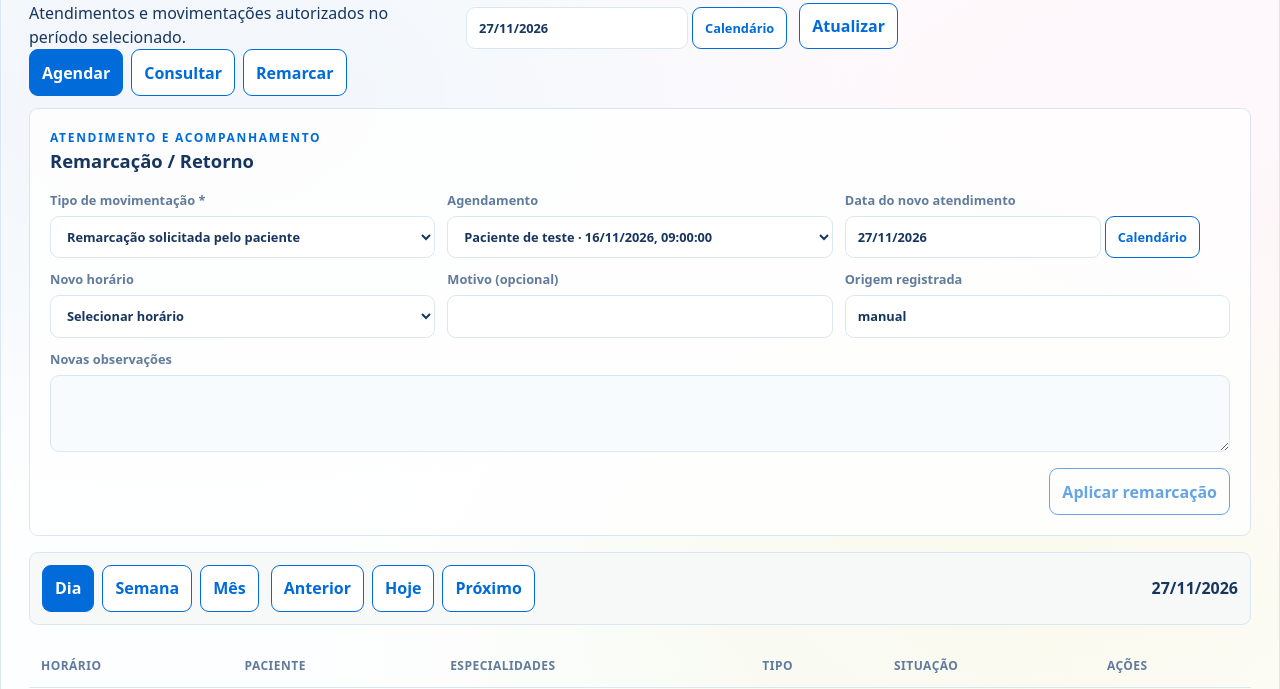
Test: mantém aviso de remarcação pendente sem local e habilita WhatsApp após recuperar endereço, sem duplicar consulta
(page scrolled)
Expected: the heading "Remarcação / Retorno" is shown, [50, 148, 254, 173]
Select "Remarcação solicitada pelo paciente" in the dropdown labelled "Tipo de movimentação *" at {"x": 243, "y": 237}, box [50, 216, 435, 258]
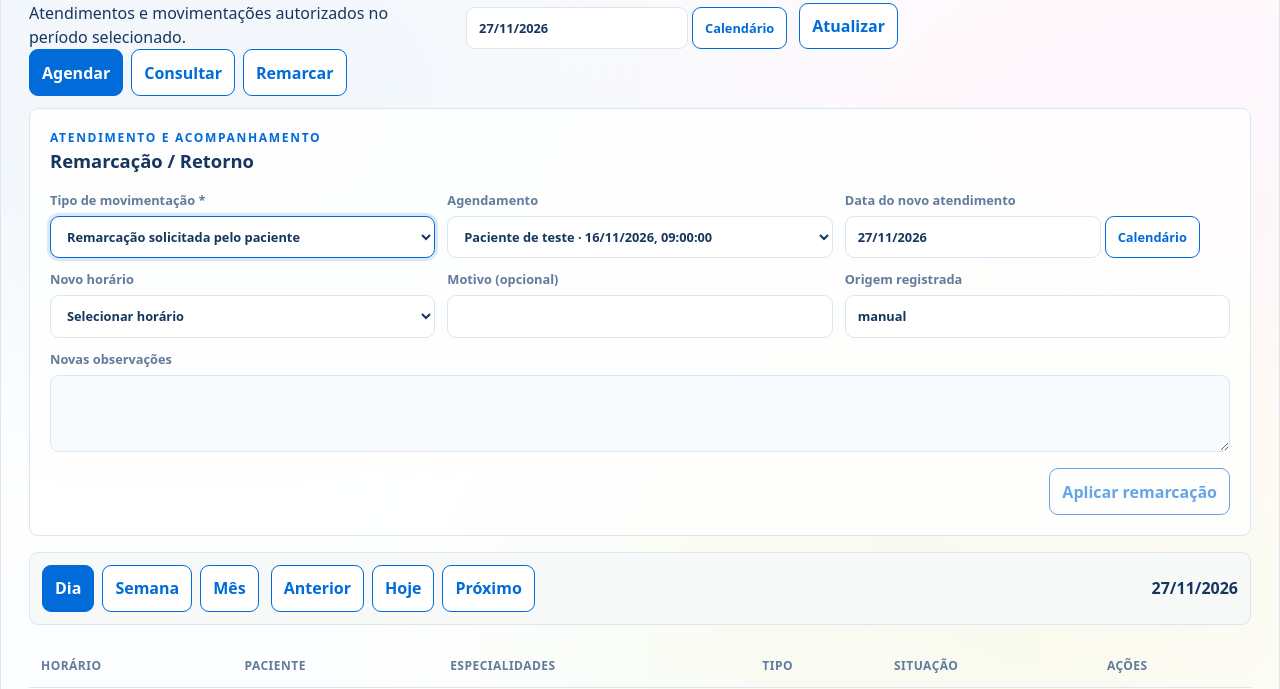
Expected: the dropdown labelled "Agendamento" shows "Paciente de teste · 16/11/2026, 09:00:00", [447, 216, 833, 258]
Replace the text in the field labelled "Data do novo atendimento" with "2026-11-17" at {"x": 973, "y": 237}, box [845, 216, 1101, 258]
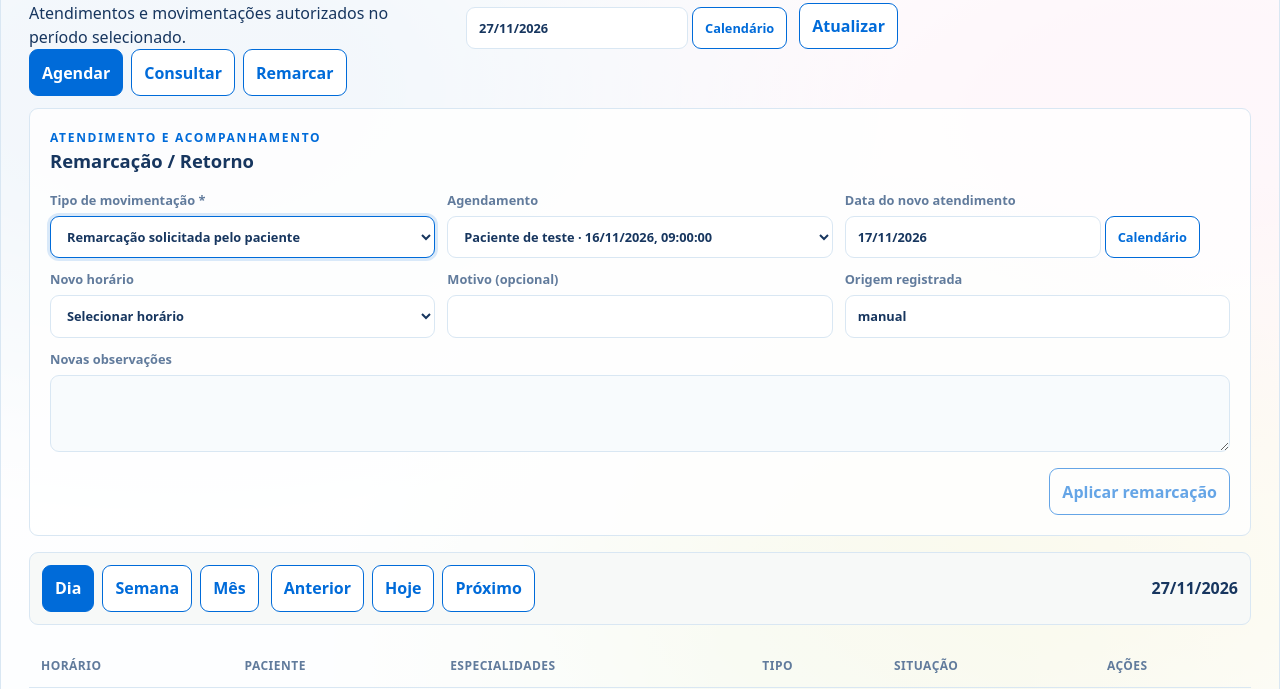
Select "09:00:00" in the dropdown labelled "Novo horário" at {"x": 243, "y": 316}, box [50, 295, 435, 338]
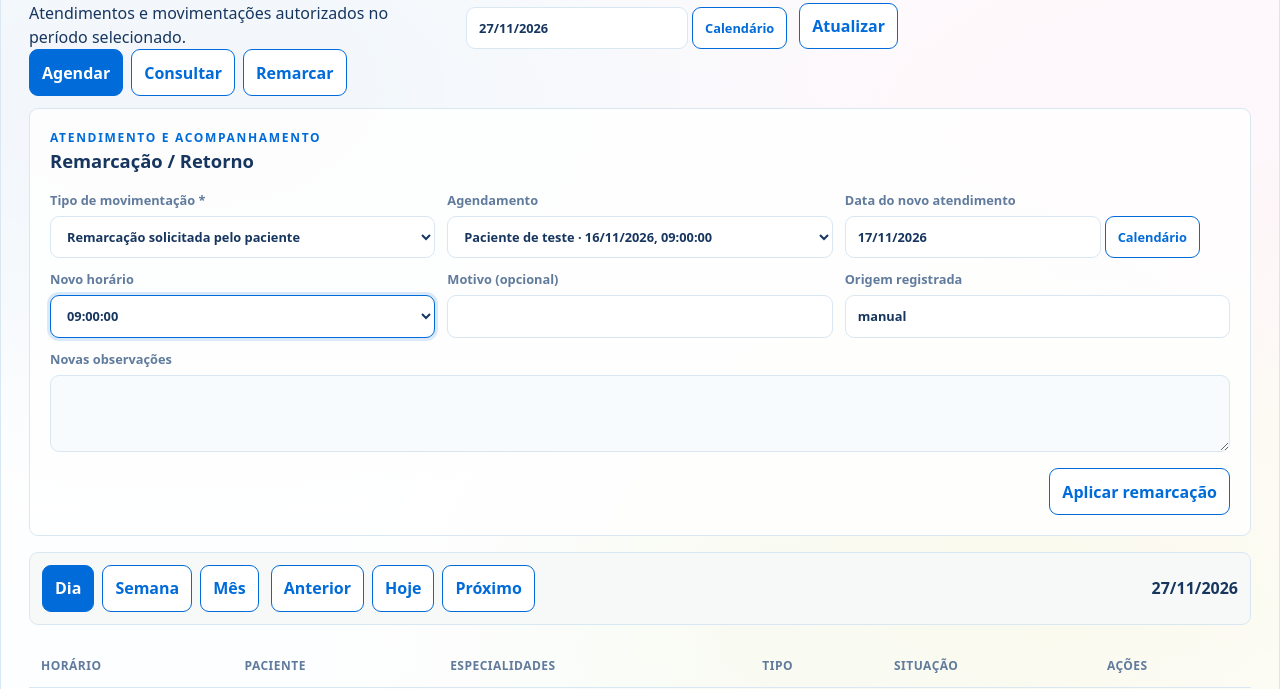
Click the button "Aplicar remarcação" at {"x": 1140, "y": 492}, box [1049, 468, 1230, 515]
(page scrolled)
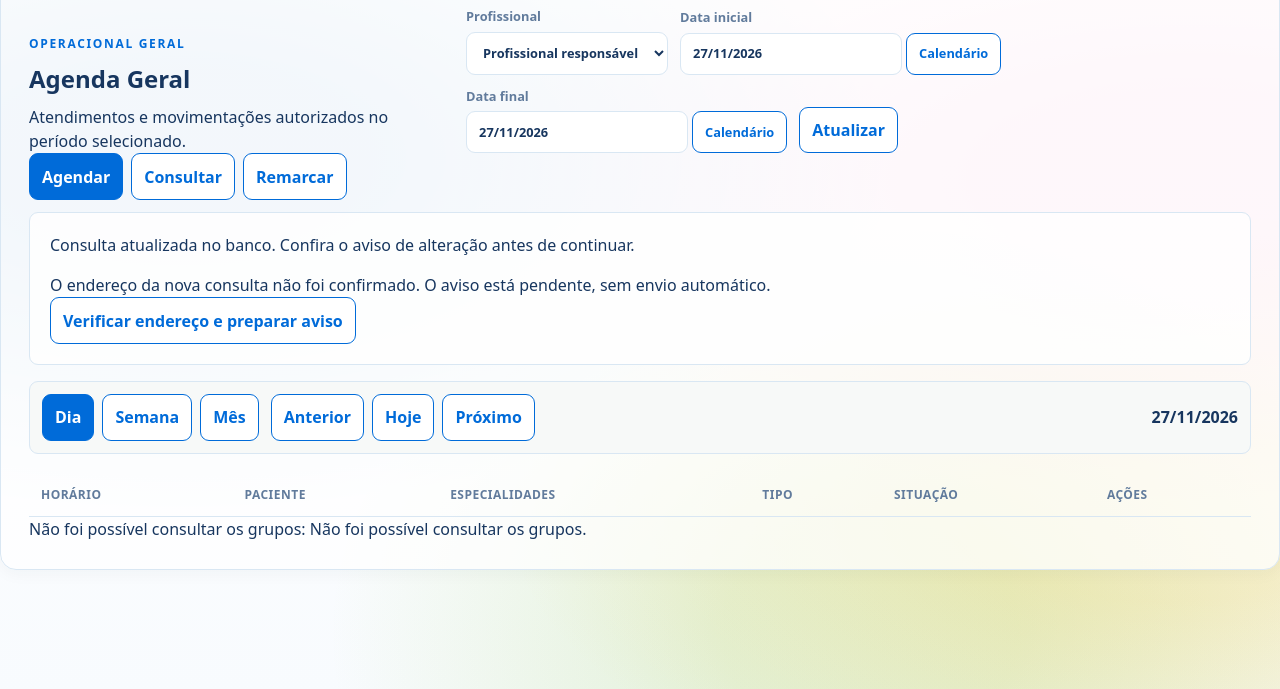
Now the element named "Comunicação após movimentação" is shown, box [29, 212, 1251, 365]
Now the text "aviso está pendente" is shown, box [50, 274, 770, 296]
Click the button "Verificar endereço e preparar aviso" at {"x": 203, "y": 320}, box [50, 297, 356, 344]
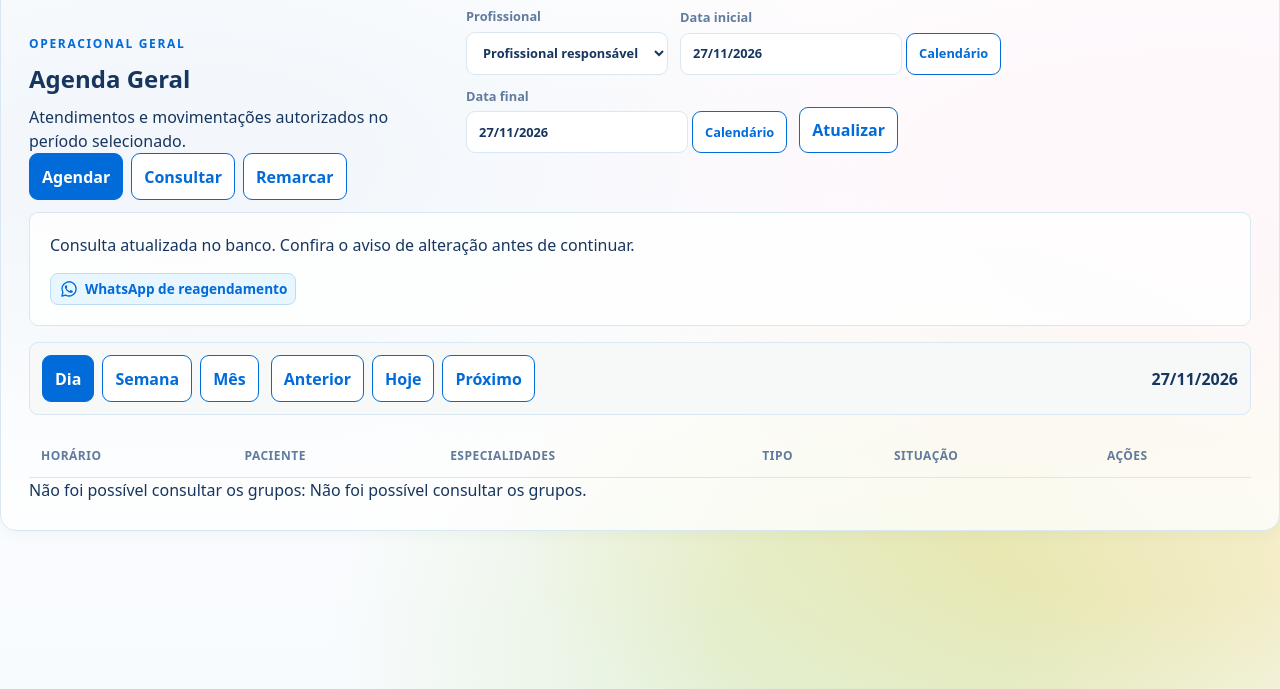
Now the button with aria-label "💬 WhatsApp de reagendamento" is shown, box [50, 273, 296, 305]
